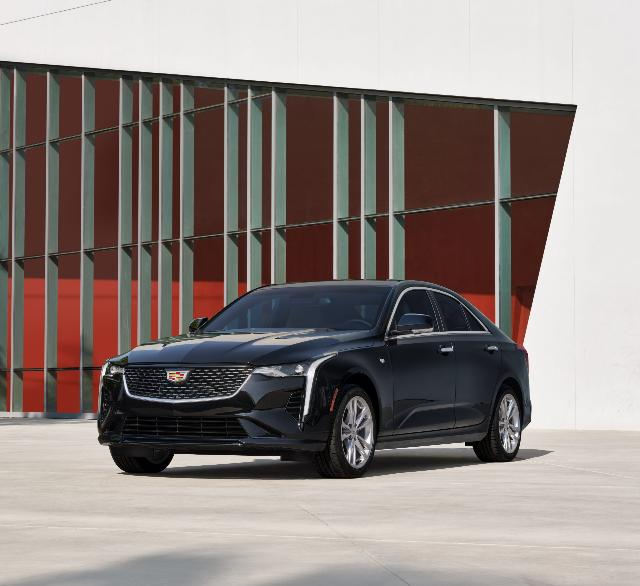cadillac: (96, 278, 532, 478)
